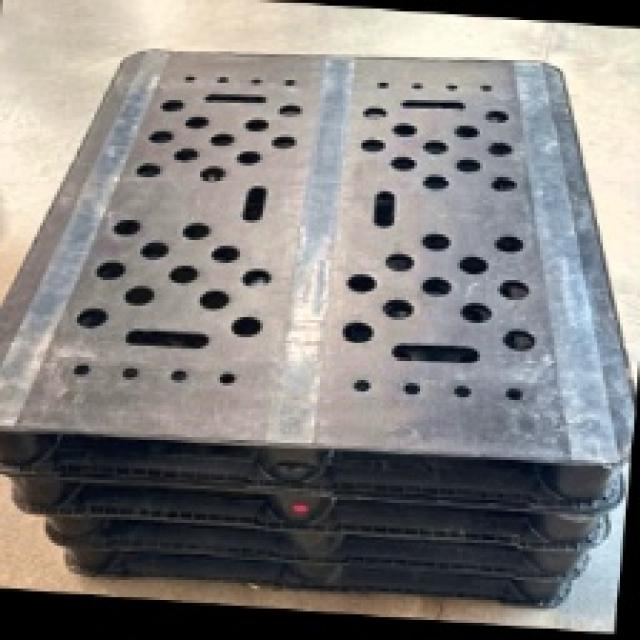igps: (0, 41, 640, 524), (0, 460, 619, 552), (32, 490, 598, 590), (55, 535, 579, 613)
